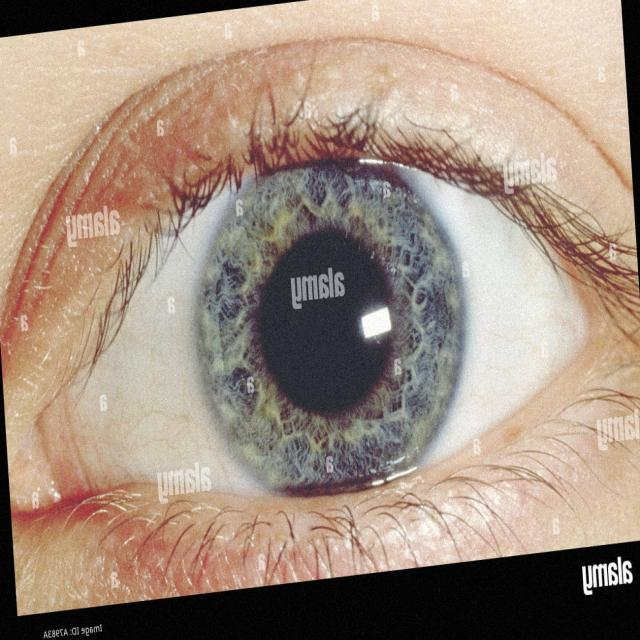Healthy-Eye: (150, 43, 469, 525)
